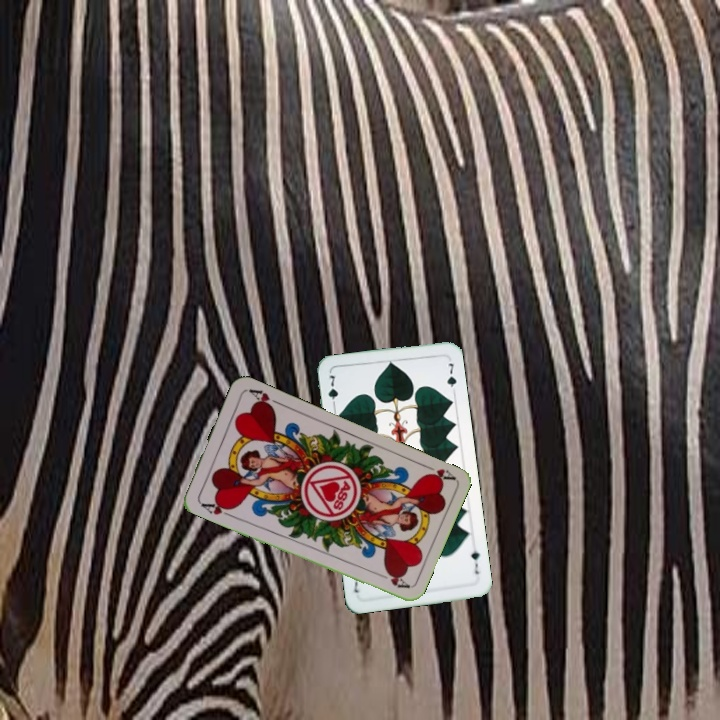G7: (324, 371, 341, 410), (467, 547, 482, 577)
HA: (418, 460, 457, 485), (196, 497, 236, 519)
